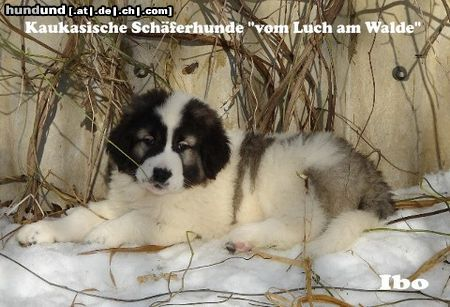cau_ovcharka: (15, 87, 400, 256)
